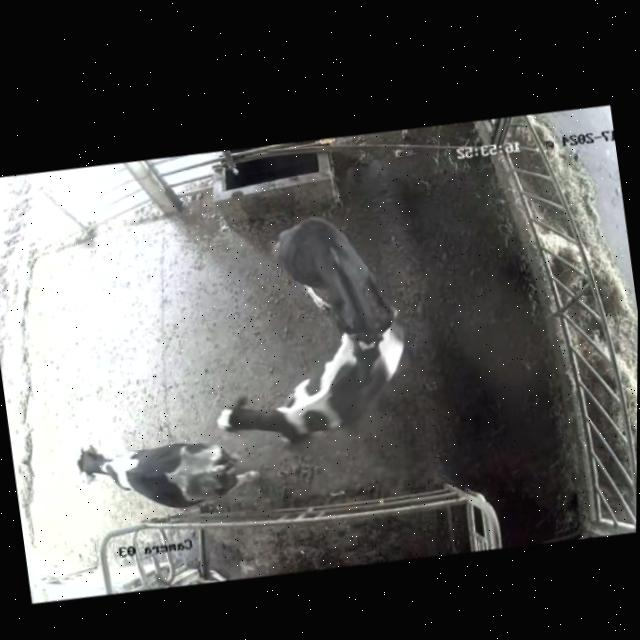ride: (271, 200, 412, 387)
stand: (203, 317, 422, 474), (71, 415, 258, 529)
